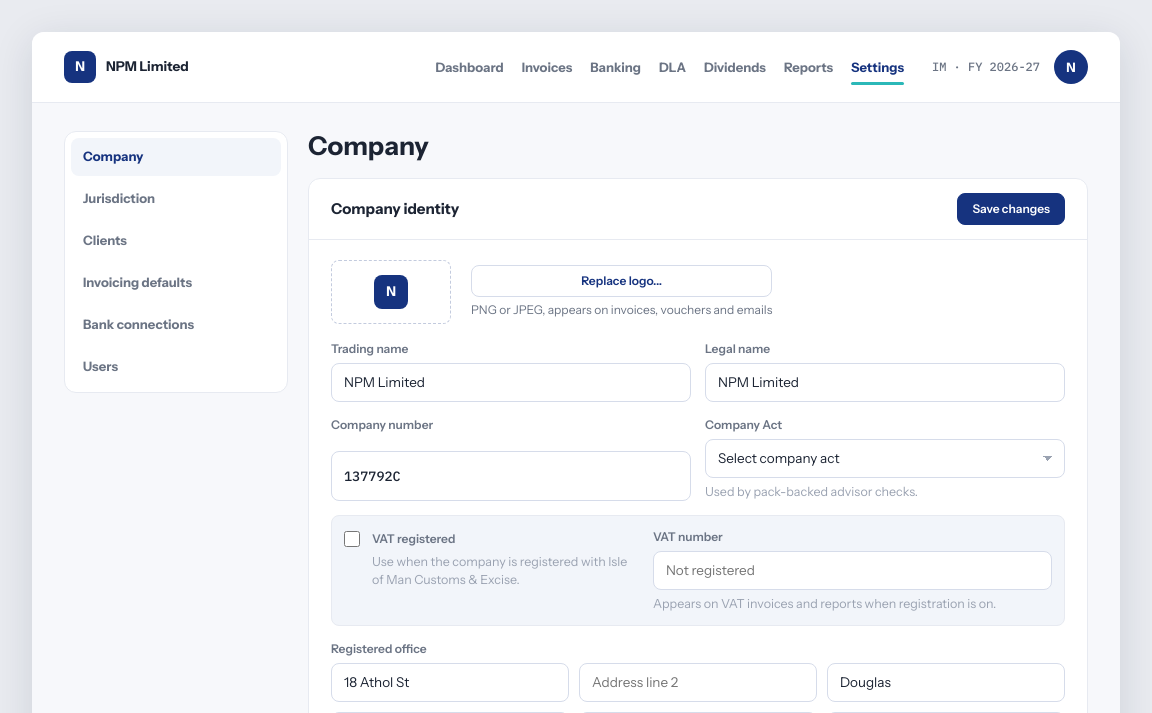
Company settings › saves the trading name and updates the header identity
Replace the text in the field labelled "Trading name" with "Keel Holdings" at coordinates (511, 382), box [331,363,691,402]
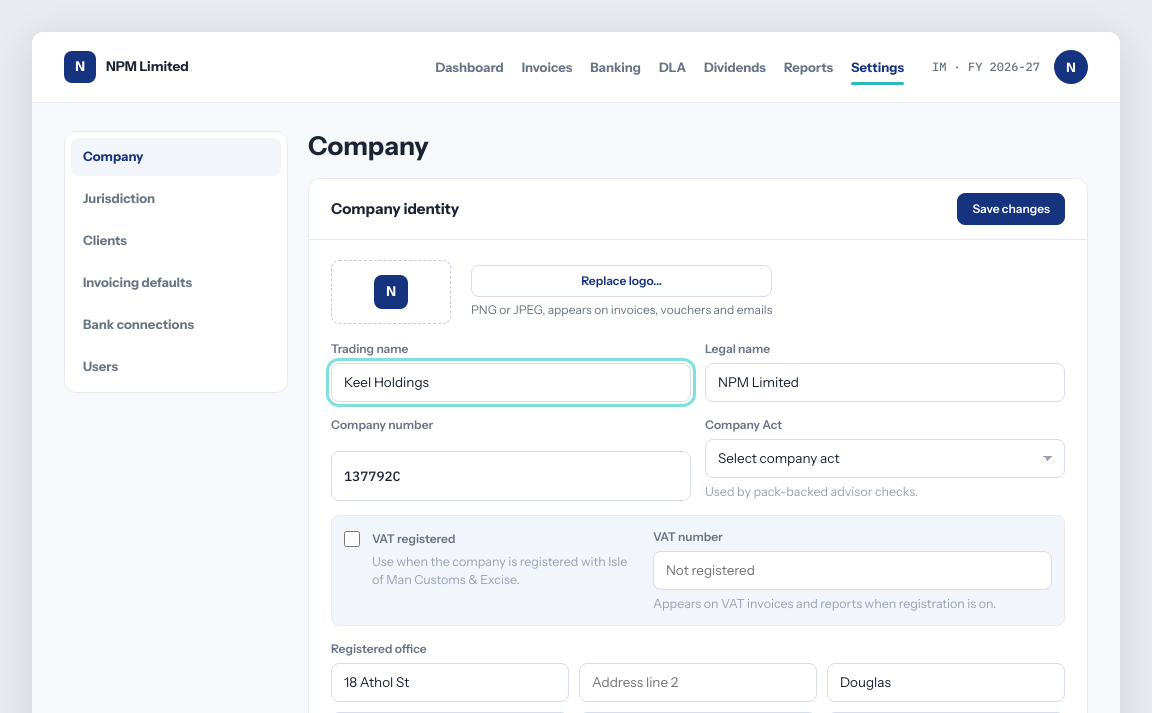
Click the button "Save changes" at coordinates (1011, 209), box [957,193,1065,225]
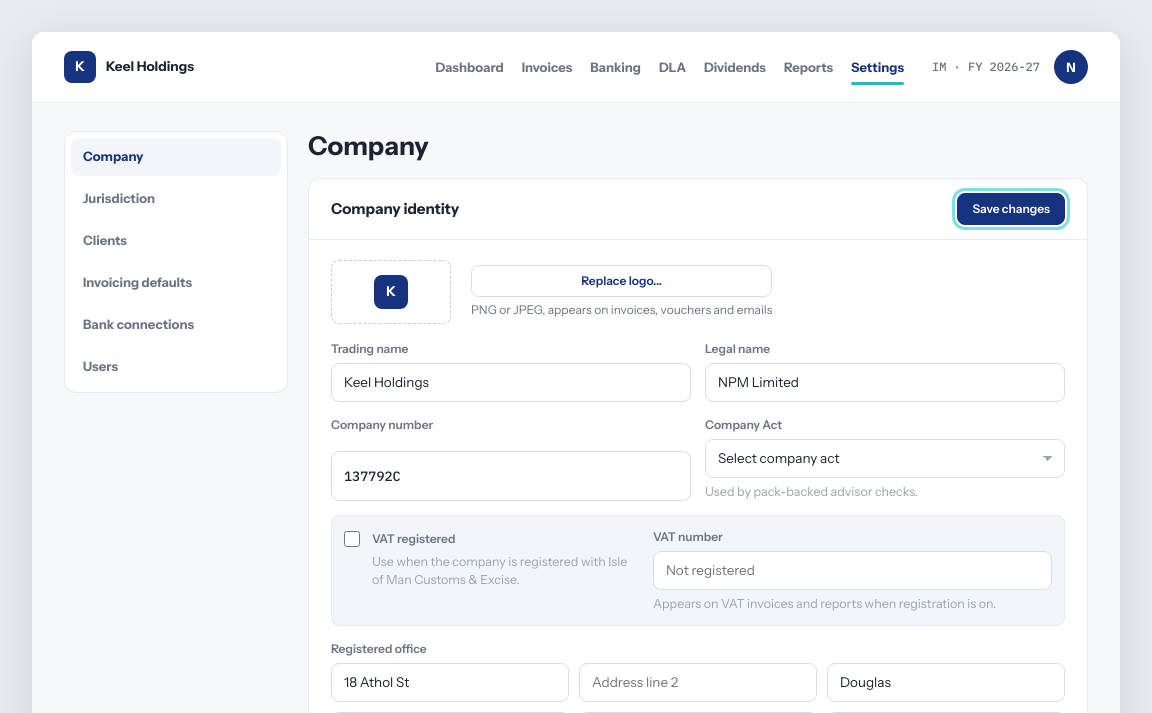
Check: the text "Keel Holdings" is shown, box [106,57,194,77]
